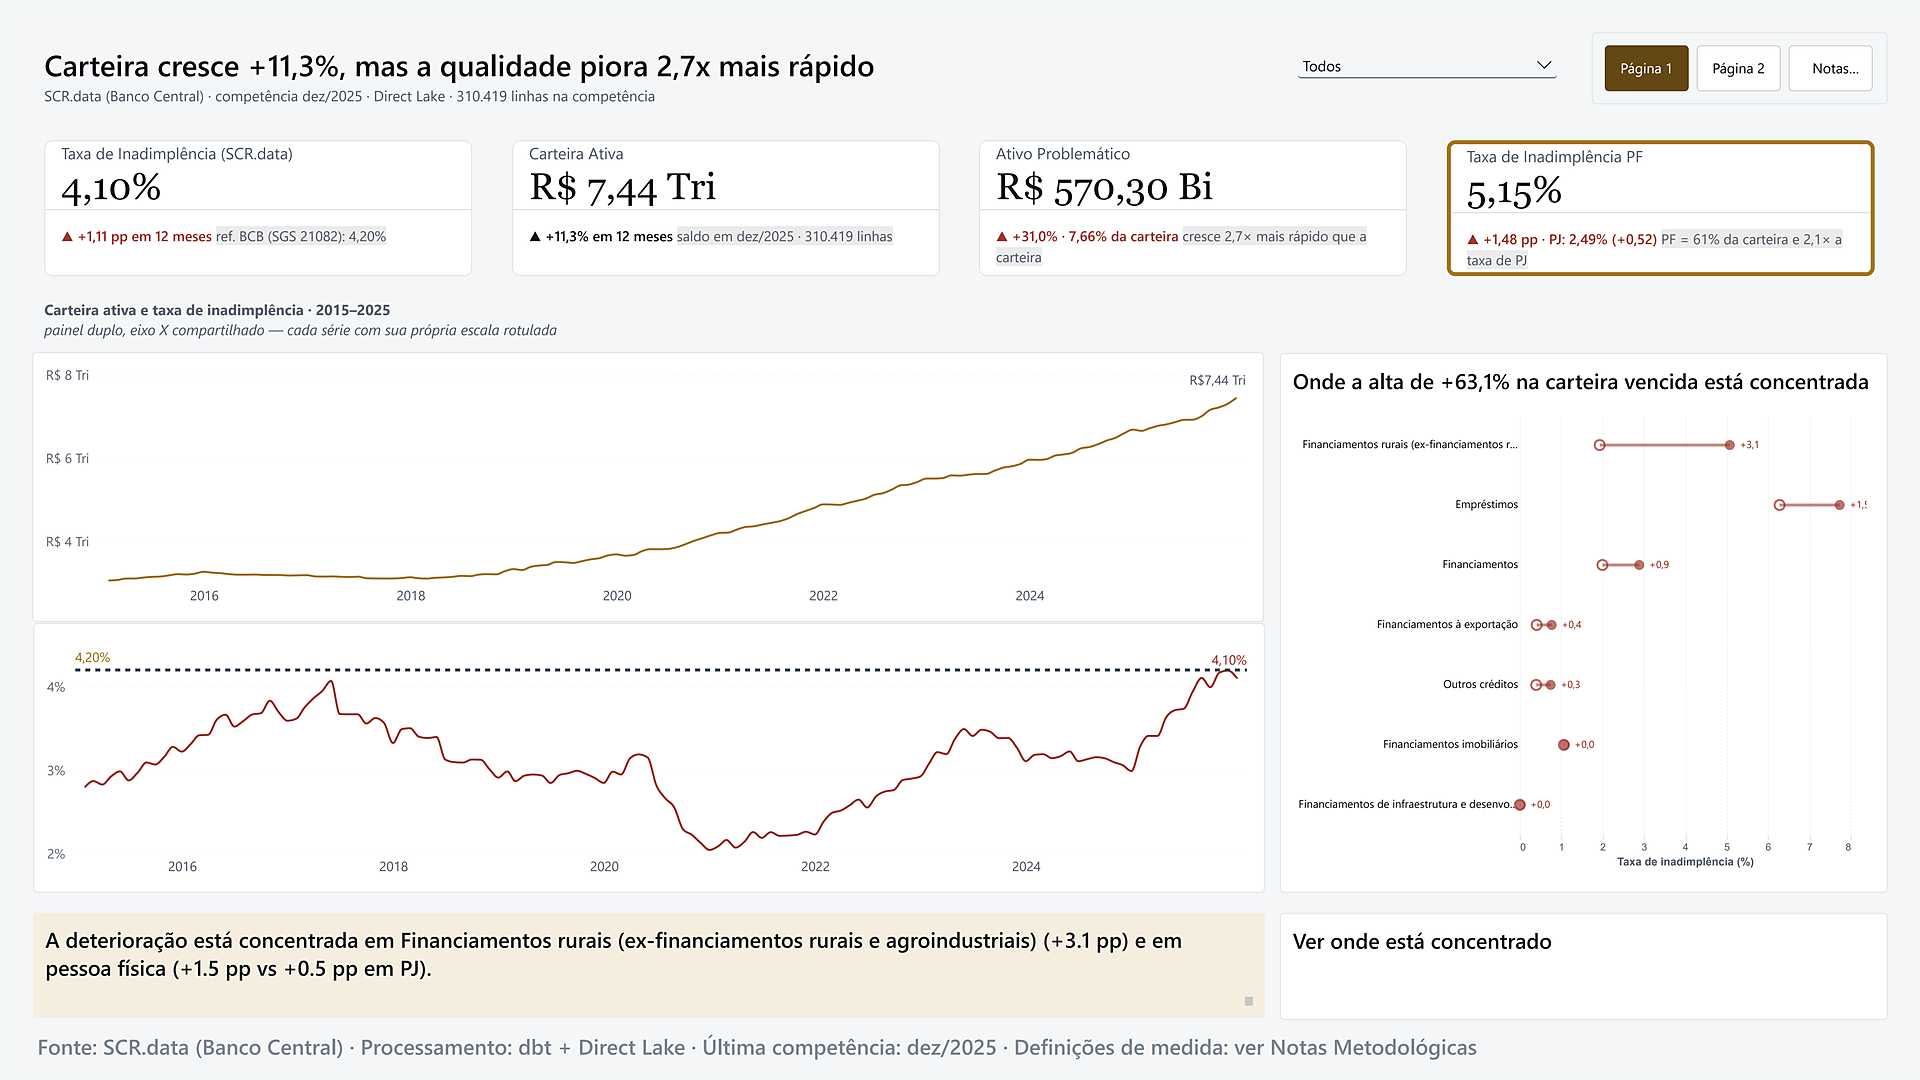

What the dashboard file says about the page in this screenshot:
{"tool":"powerbi","page":{"name":"Página 1","canvas":[1920,1080],"ordinal":0},"visuals":[{"type":"textbox","box":[32,32,1232,72],"z":0},{"type":"slicer","fields":{"Values":["dim_calendario.ano_mes"]},"box":[1279.8,31.9,295.5,72.3],"z":1000},{"type":"pageNavigator","box":[1592,32,296,72],"z":2000},{"type":"cardVisual","fields":{"Data":["fato_credito.Taxa de Inadimplência (SCR.data)"]},"box":[31.9,127.6,452.8,160],"z":3000},{"type":"cardVisual","fields":{"Data":["fato_credito.Carteira Ativa"]},"box":[499.6,127.6,452.8,160],"z":4000},{"type":"cardVisual","fields":{"Data":["fato_credito.Ativo Problemático"]},"box":[967.3,127.6,452.8,160],"z":5000},{"type":"cardVisual","fields":{"Data":["fato_credito.Taxa de Inadimplência PF"]},"box":[1435,127.6,452.8,160],"z":6000},{"type":"lineChart","fields":{"Category":["dim_calendario.data"],"Y":["fato_credito.Carteira Ativa","fato_credito.Carteira Ativa · Rótulo Ponta"]},"box":[31.9,352,1232,270],"z":7000},{"type":"lineChart","fields":{"Category":["dim_calendario.data"],"Y":["fato_credito.Taxa de Inadimplência (SCR.data)","fato_credito.Taxa de Inadimplência · Rótulo Ponta"]},"box":[32.5,622.5,1232,270],"z":8000},{"type":"textbox","box":[31.7,286.7,1233.3,65],"z":9000},{"type":"textbox","box":[32.5,912.5,1232.5,105],"z":10000},{"type":"actionButton","title":"Ver onde está concentrado","box":[1280,912.5,607.5,107.5],"z":11000},{"type":"textbox","box":[25,1020,1855,60],"z":11001},{"type":"deneb7E15AEF80B9E4D4F8E12924291ECE89A","fields":{"dataset":["dim_modalidade.modalidade","fato_credito.Taxa de Inadimplência (dez/2024)","fato_credito.Taxa de Inadimplência (dez/2025)","fato_credito.Dumbbell · Δpp Modalidade","fato_credito.Dumbbell · Elegivel (Materialidade)"]},"box":[1280,352.5,607.5,540],"z":11002}]}

Visuals, with their boxes in screenshot pixels (x1, y1, x2, y2), scaled from the page's 1920x1080 canvas onto the 1920x1080 screenshot:
textbox: <region>32, 32, 1264, 104</region>
slicer - dim_calendario.ano_mes: <region>1280, 32, 1575, 104</region>
pageNavigator: <region>1592, 32, 1888, 104</region>
cardVisual - fato_credito.Taxa de Inadimplência (SCR.data): <region>32, 128, 485, 288</region>
cardVisual - fato_credito.Carteira Ativa: <region>500, 128, 952, 288</region>
cardVisual - fato_credito.Ativo Problemático: <region>967, 128, 1420, 288</region>
cardVisual - fato_credito.Taxa de Inadimplência PF: <region>1435, 128, 1888, 288</region>
lineChart - dim_calendario.data x fato_credito.Carteira Ativa: <region>32, 352, 1264, 622</region>
lineChart - dim_calendario.data x fato_credito.Taxa de Inadimplência (SCR.data): <region>32, 622, 1264, 892</region>
textbox: <region>32, 287, 1265, 352</region>
textbox: <region>32, 912, 1265, 1018</region>
"Ver onde está concentrado" actionButton: <region>1280, 912, 1888, 1020</region>
textbox: <region>25, 1020, 1880, 1079</region>
deneb7E15AEF80B9E4D4F8E12924291ECE89A - dim_modalidade.modalidade x fato_credito.Taxa de Inadimplência (dez/2024): <region>1280, 352, 1888, 892</region>
